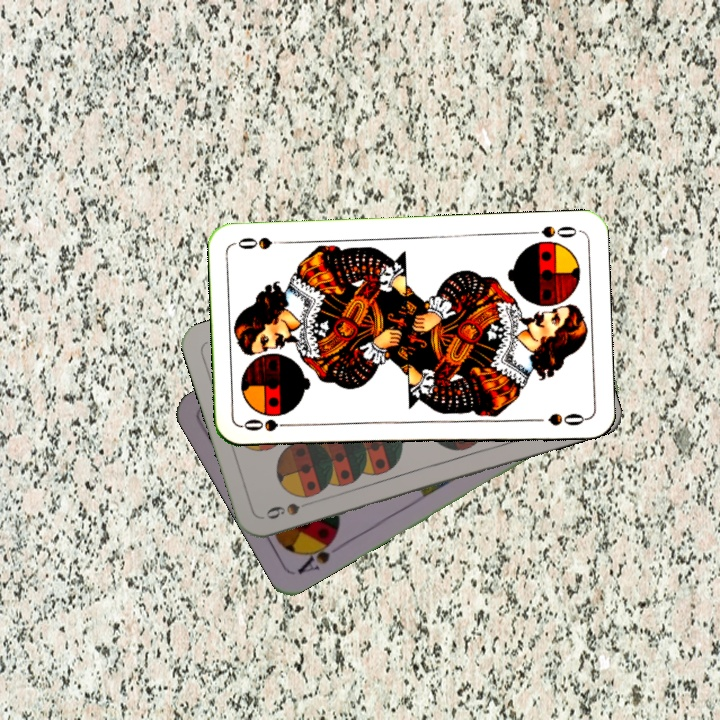S9: (262, 499, 303, 522)
SA: (293, 531, 339, 577)
SO: (522, 221, 582, 241), (239, 414, 298, 434)
